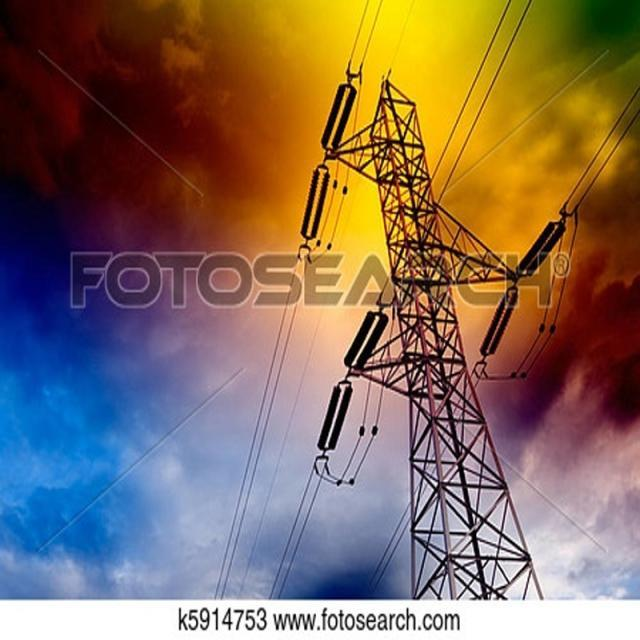non-critical vegetation: (337, 62, 553, 595)
